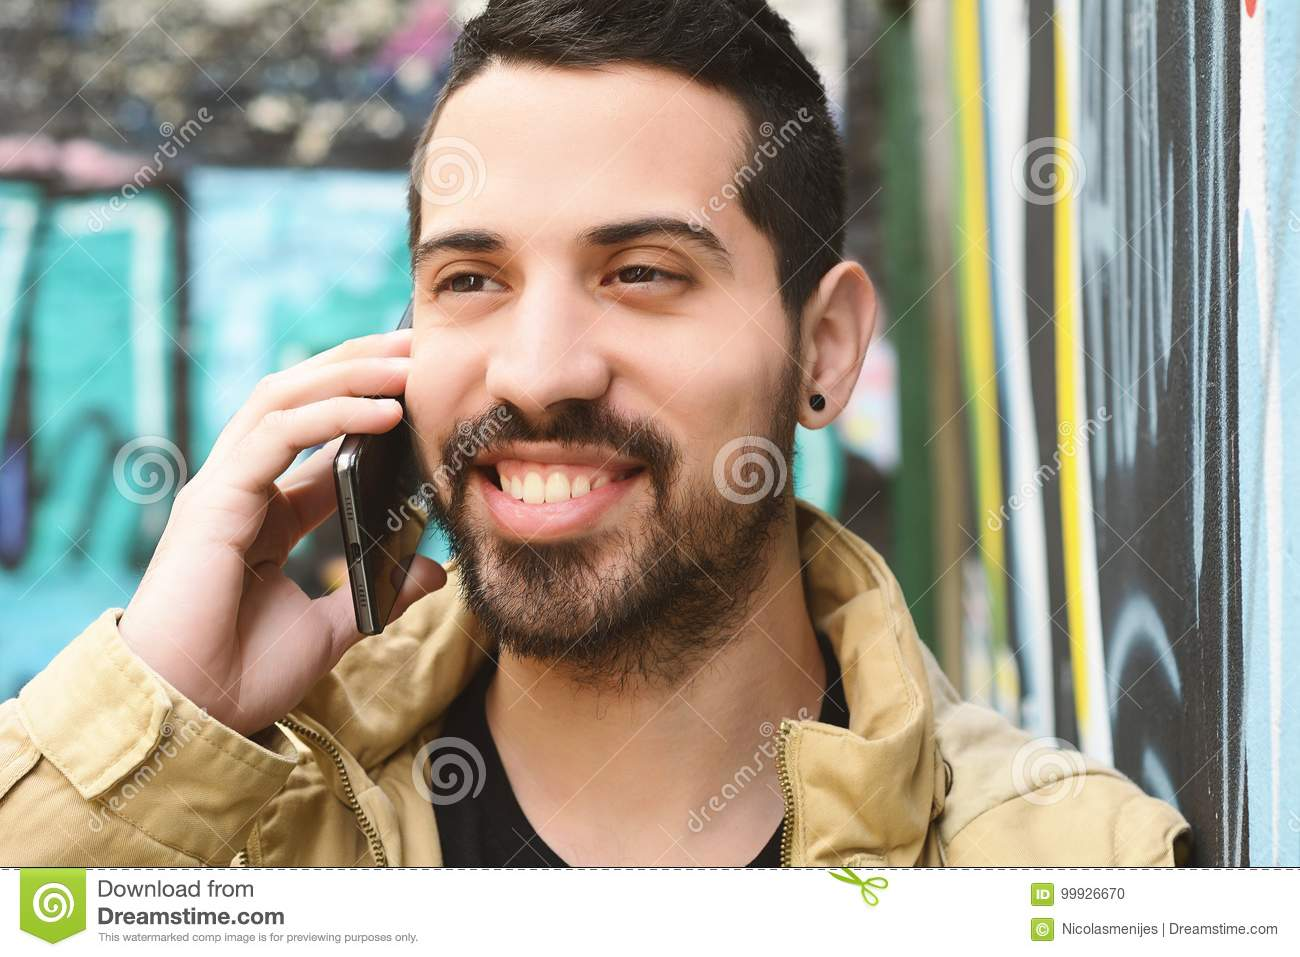phone: (325, 283, 423, 656)
talk: (130, 189, 746, 744)
